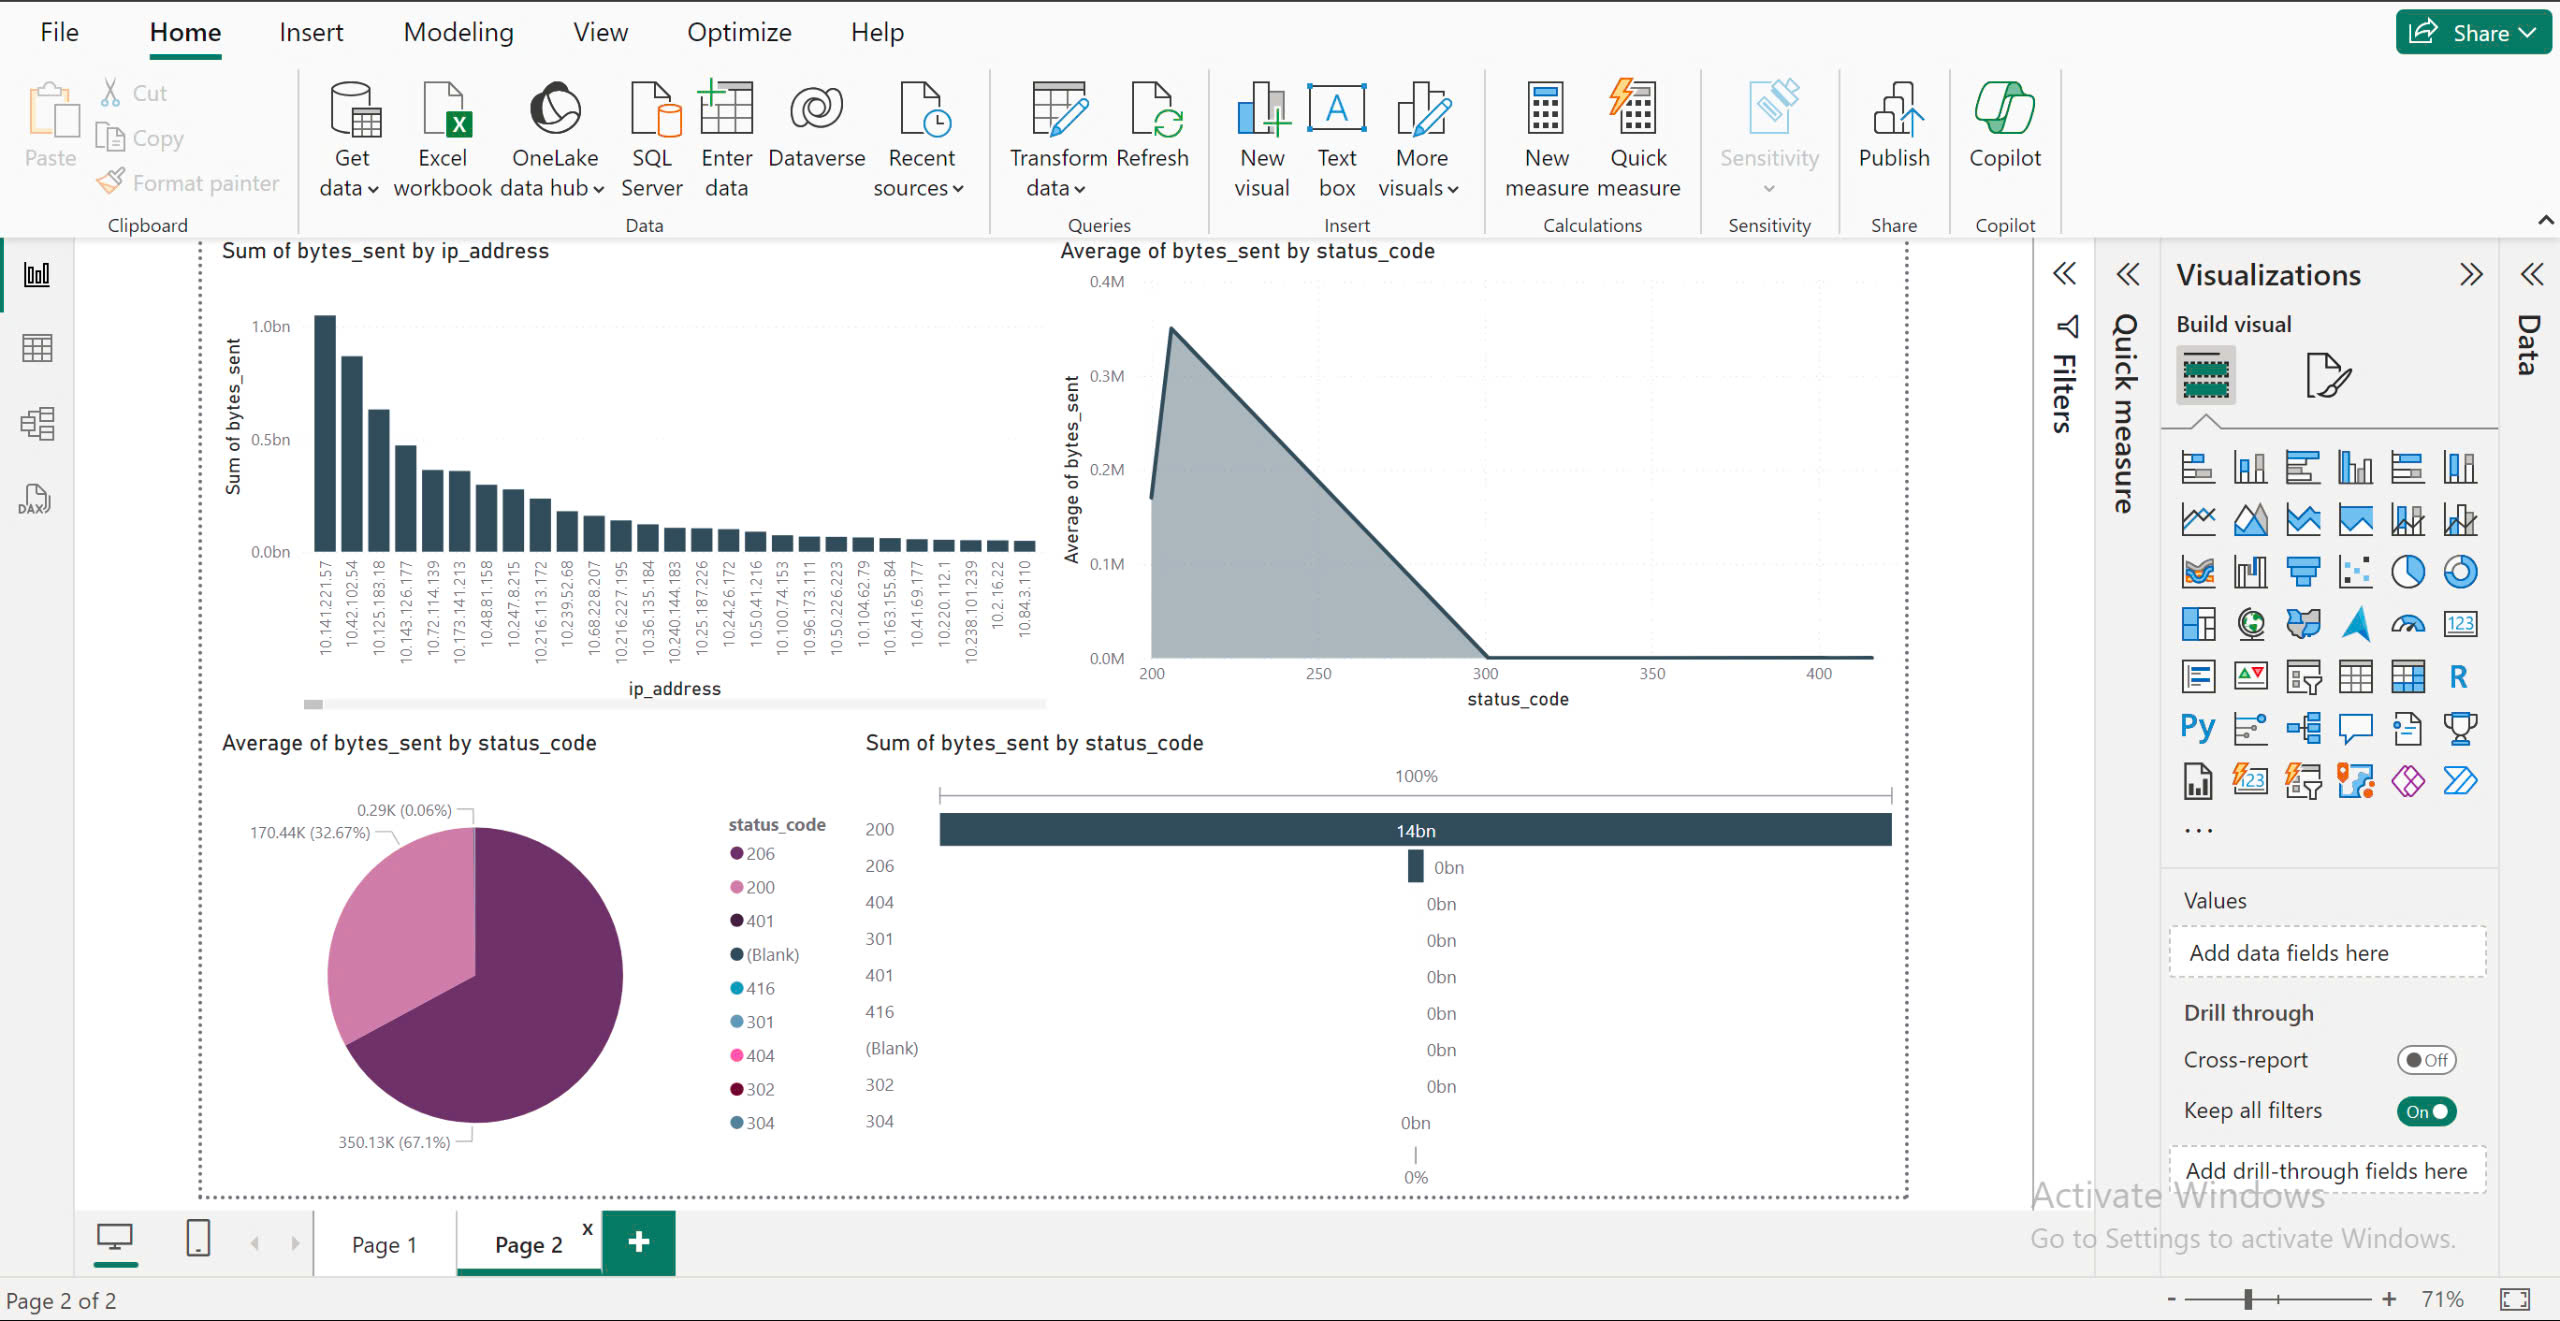

What the dashboard file says about the page in this screenshot:
{"tool":"powerbi","page":{"name":"Log","canvas":[1280,720],"ordinal":1},"visuals":[{"type":"columnChart","fields":{"Y":["Sum(logs.bytes_sent)"],"Category":["logs.ip_address"]},"box":[10.4,0,629.6,359.5],"z":0},{"type":"pieChart","fields":{"Category":["logs.status_code"],"Y":["Avg(logs.bytes_sent)"]},"box":[10,370,483,350],"z":1},{"type":"areaChart","fields":{"Category":["logs.status_code"],"Y":["Avg(logs.bytes_sent)"]},"box":[640,0,640,359.5],"z":2},{"type":"funnel","fields":{"Y":["Sum(logs.bytes_sent)"],"Category":["logs.status_code"]},"box":[493.8,370,786.2,350.6],"z":3}]}

Visuals, with their boxes on the page's 1280x720 design canvas (x1, y1, x2, y2). These are canvas units, not pixel positions in the 2560x1321 screenshot, which may show the page scaled, cropped or inside an application window:
columnChart - Sum(logs.bytes_sent) x logs.ip_address: l=10, t=0, r=640, b=360
pieChart - logs.status_code x Avg(logs.bytes_sent): l=10, t=370, r=493, b=720
areaChart - logs.status_code x Avg(logs.bytes_sent): l=640, t=0, r=1280, b=360
funnel - Sum(logs.bytes_sent) x logs.status_code: l=494, t=370, r=1280, b=721
